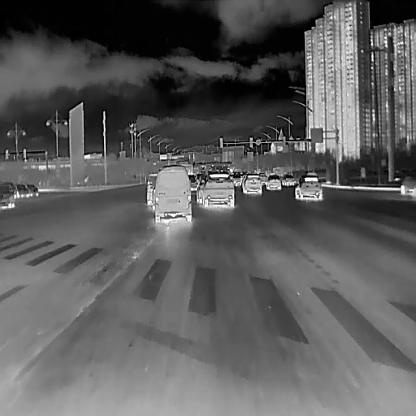car: (154, 163, 191, 222), (202, 172, 235, 208), (294, 174, 323, 200), (0, 180, 15, 209), (242, 173, 262, 194), (145, 173, 156, 205), (265, 174, 280, 190), (195, 179, 205, 202), (14, 184, 28, 198), (282, 172, 294, 186), (26, 184, 38, 196)
